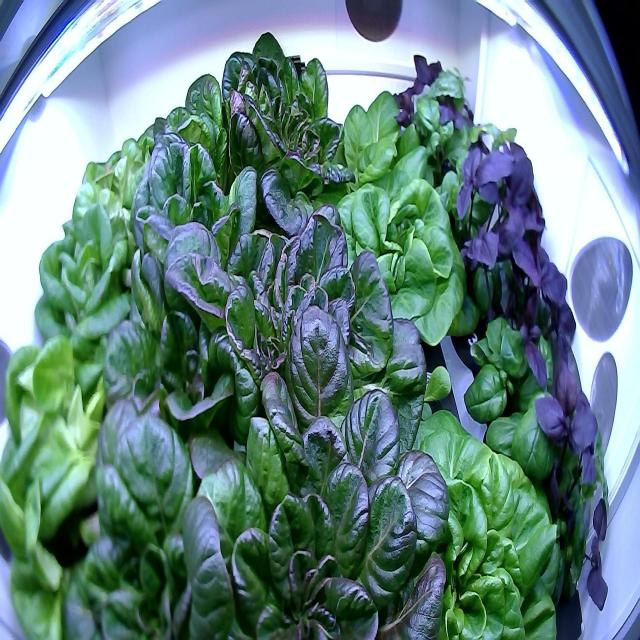Ready: (163, 166, 428, 474), (186, 378, 459, 640), (58, 371, 251, 640), (374, 396, 564, 640), (218, 22, 369, 264), (0, 323, 112, 640), (128, 123, 250, 378), (320, 165, 468, 373), (25, 178, 153, 359), (136, 58, 248, 218), (69, 112, 172, 250)
young: (317, 78, 447, 204), (385, 332, 454, 442)
